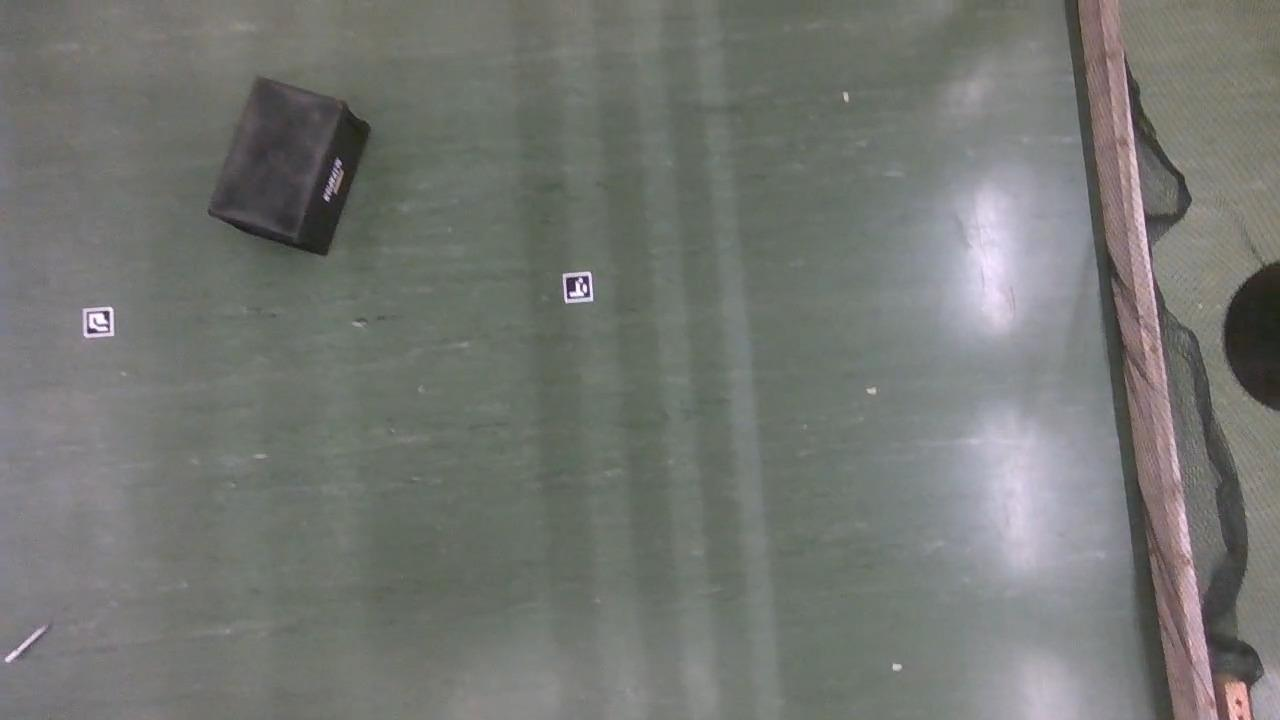probes: (3, 623, 49, 663)
rako: (206, 77, 370, 257)
